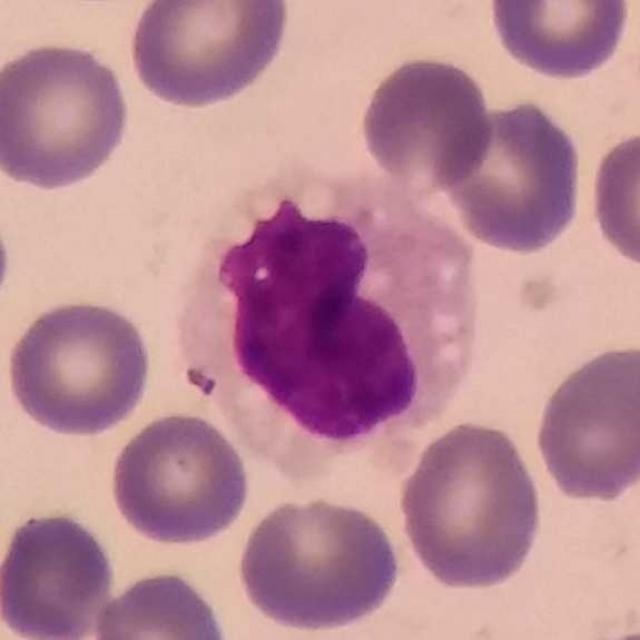Monocyte: (180, 163, 490, 468)
Platelets: (515, 267, 562, 320)
RBC: (393, 416, 548, 594), (234, 491, 406, 634), (435, 96, 588, 256), (2, 294, 156, 439), (107, 407, 254, 550), (1, 38, 135, 194), (355, 51, 498, 193), (125, 0, 294, 110), (530, 340, 640, 506), (0, 505, 118, 640), (484, 0, 634, 83), (88, 566, 234, 640), (585, 123, 640, 275)
